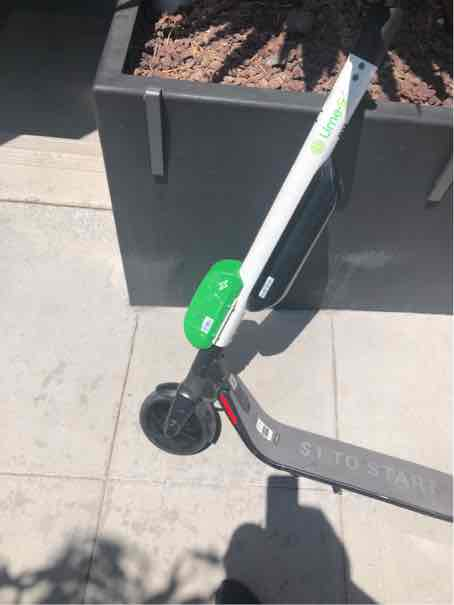scooter: (122, 4, 454, 533)
